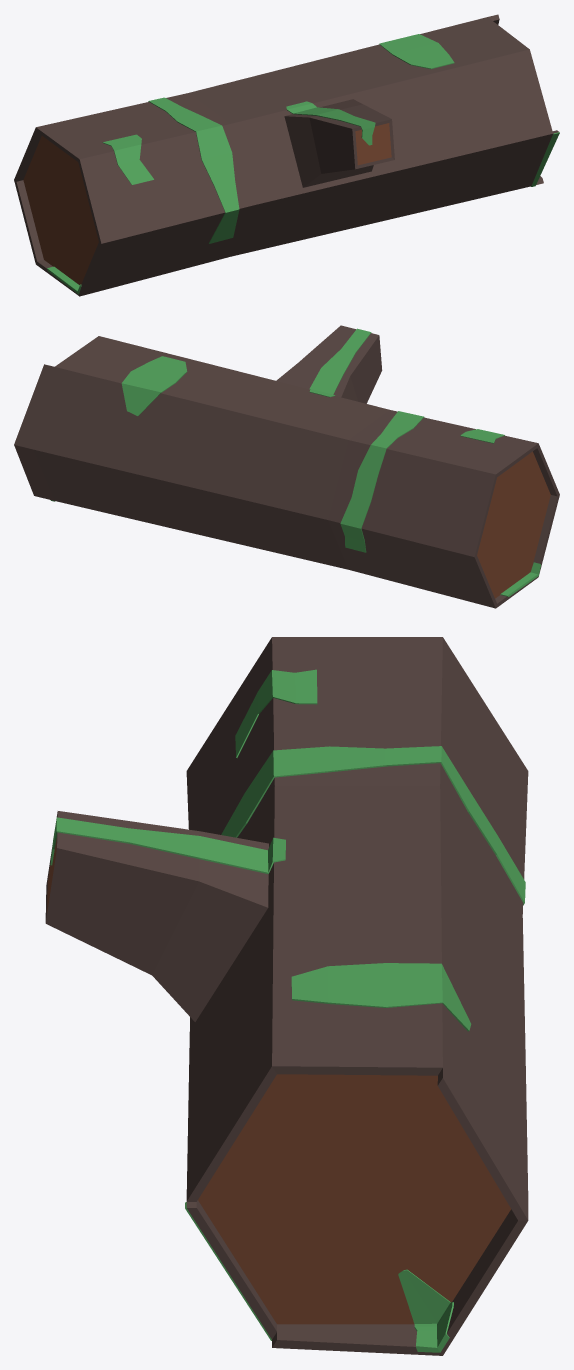
The model's file is Fallen_Tree_2-thicc.fbx.
The picture shows the model from 3 angles, top to bottom: view 1: azimuth 30°, elevation 25°; view 2: azimuth 150°, elevation 25°; view 3: azimuth 270°, elevation 25°; orthographic projection. The views are drawn at different scales.
Parts seen in each view (by area): view 1: Circle, MOss; view 2: Circle, MOss; view 3: Circle, MOss.
Part boxes in pixels (<box>): Circle: <box>14,14,559,296</box>; MOss: <box>47,34,559,294</box>; Circle: <box>14,325,559,608</box>; MOss: <box>50,328,540,596</box>; Circle: <box>45,637,528,1355</box>; MOss: <box>50,669,525,1352</box>.
Size of the model in its own units: 626 by 197 by 282.
